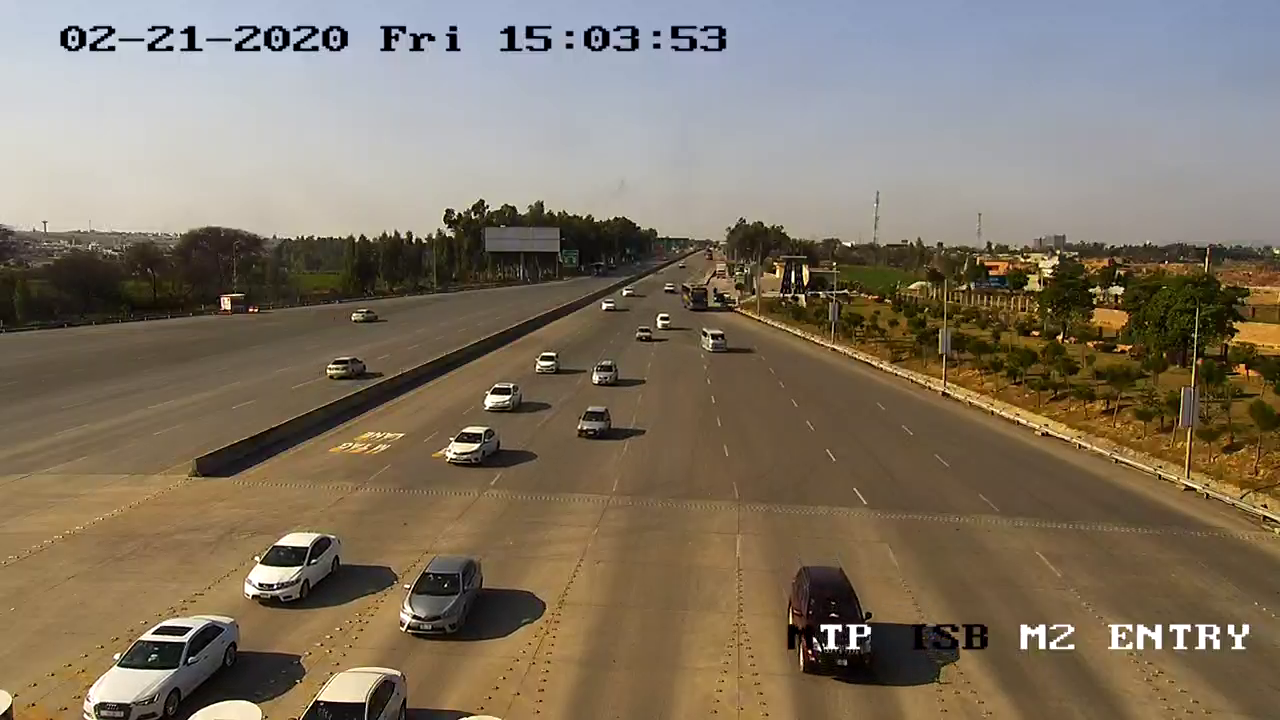f1: (68, 595, 245, 720), (385, 546, 495, 644), (234, 521, 349, 611), (434, 420, 508, 474), (563, 401, 620, 445), (475, 377, 529, 420), (585, 352, 627, 392)
